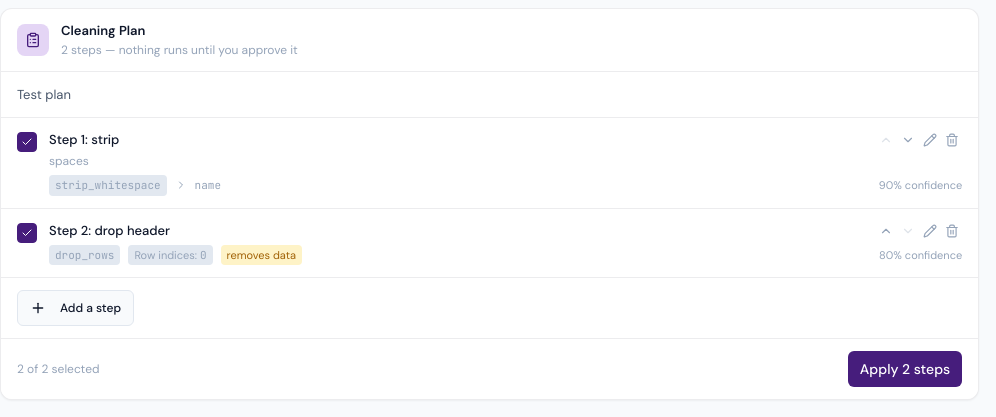
Test: CleaningPlanCard — editing › resets back to the plan as proposed
The width and height of the screenshot is (996, 417).
expect the button "Add a step" is enabled: met, box [17,290,134,326]
Click the button named "Delete step 2". click: (952,231)
box: [942,221,962,241]
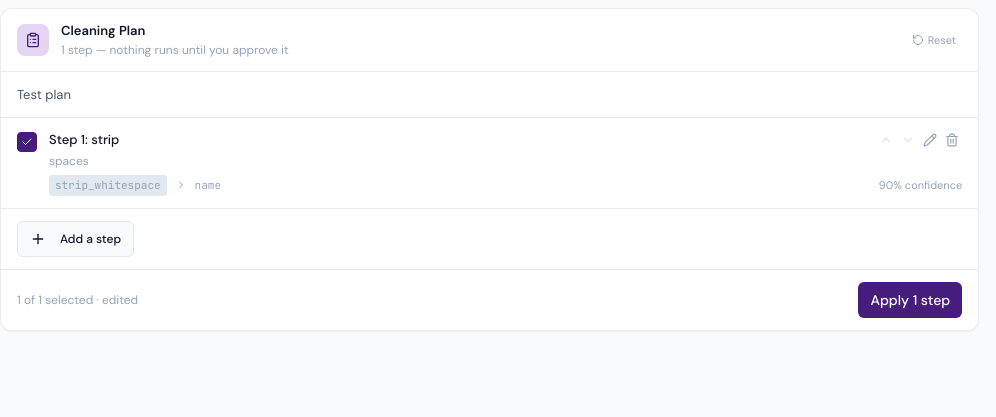
expect the text "Step 2: drop header" is gone: met
Click the button "Reset". click: (934,40)
box: [906,28,962,52]
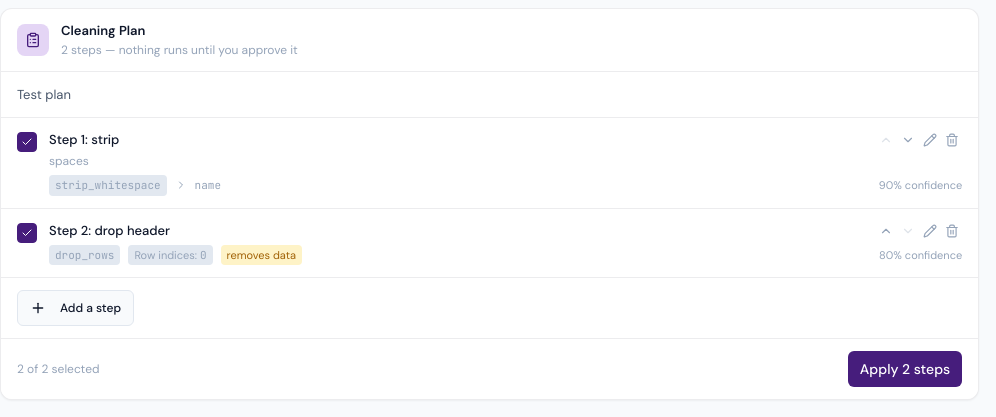
expect the text "Step 2: drop header" is shown: met, box [49,222,170,239]
expect the button "Reset" is gone: met
